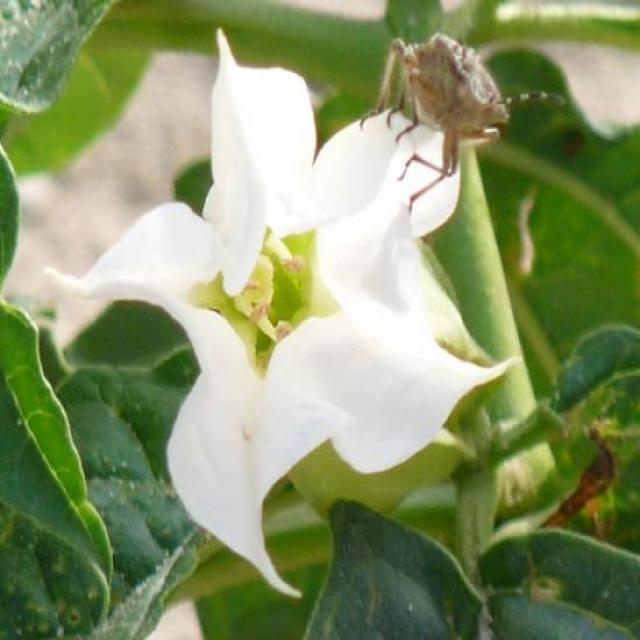Poisonous-Datura_Stramonium: (69, 37, 372, 616)
